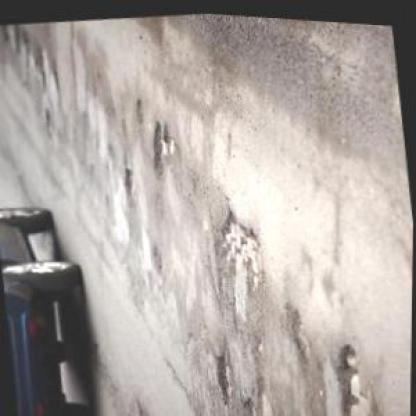pothole: (214, 201, 272, 291), (147, 115, 184, 178), (211, 346, 237, 400), (121, 164, 137, 196)
